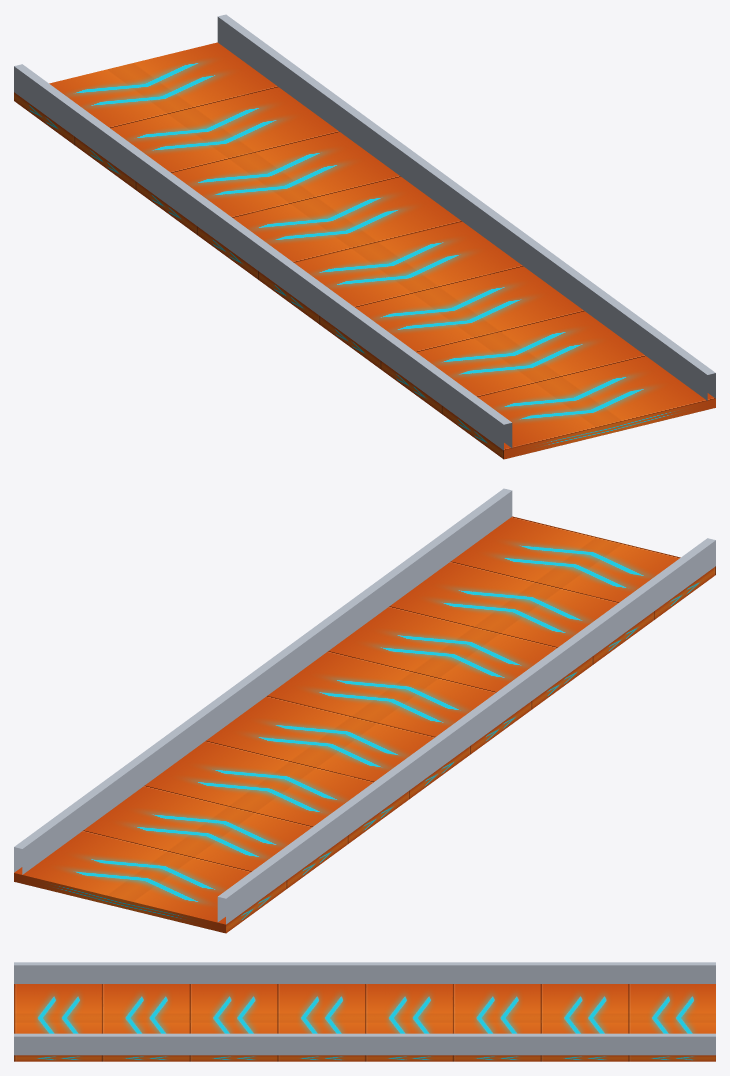
Rendered from boost-12.glb.
3 renders of one model, top to bottom at view 1: azimuth 30°, elevation 25°; view 2: azimuth 150°, elevation 25°; view 3: azimuth 270°, elevation 25°, orthographic. The views are drawn at different scales.
Size of the model in its own units: 3 by 0.47 by 12.
Materials: 2 (1 with a texture image).
